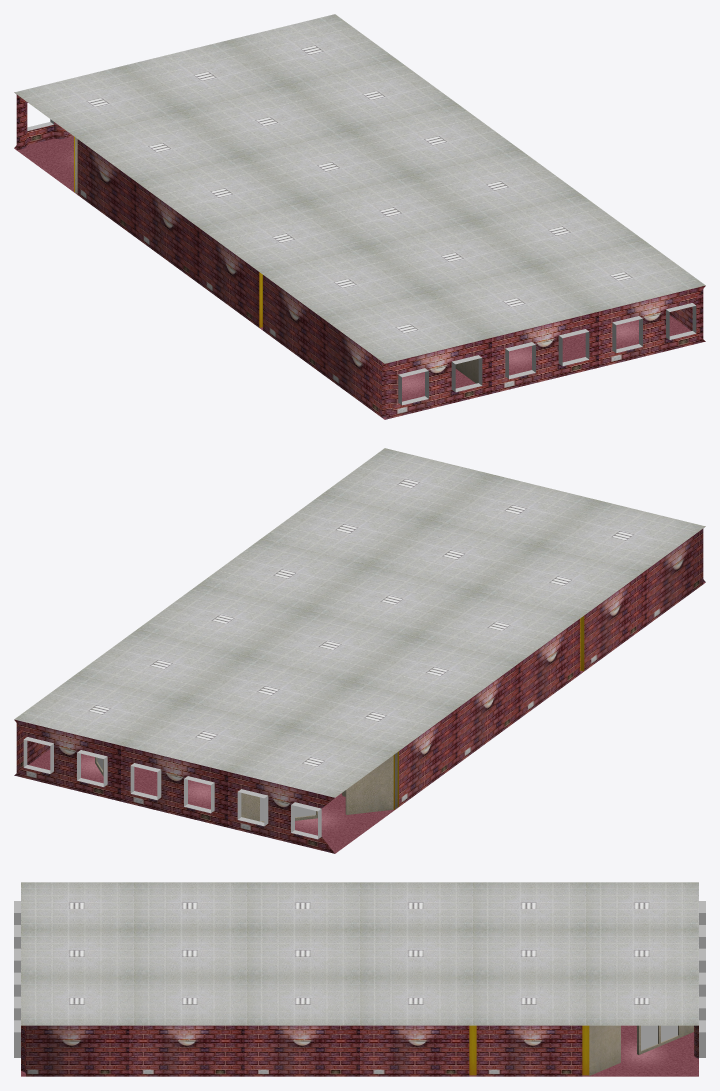
The model's file is ENVI_OFFICE.obj.
The picture shows the model from 3 angles, top to bottom: view 1: azimuth 30°, elevation 25°; view 2: azimuth 150°, elevation 25°; view 3: azimuth 270°, elevation 25°; orthographic projection. The views are drawn at different scales.
Parts seen in each view (by area): view 1: Office; view 2: Office; view 3: Office.
Boxes of the visible parts, left/top/right/bottom form: Office: left=14, top=14, right=705, bottom=419; Office: left=14, top=448, right=705, bottom=853; Office: left=14, top=882, right=705, bottom=1076.
Size of what is drawn, in the model's own units: 15.6 by 2.6 by 31.85.
7 materials, 5 textured.
